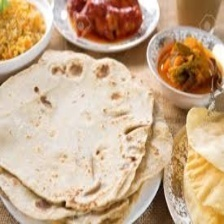roti: (176, 103, 224, 224)
